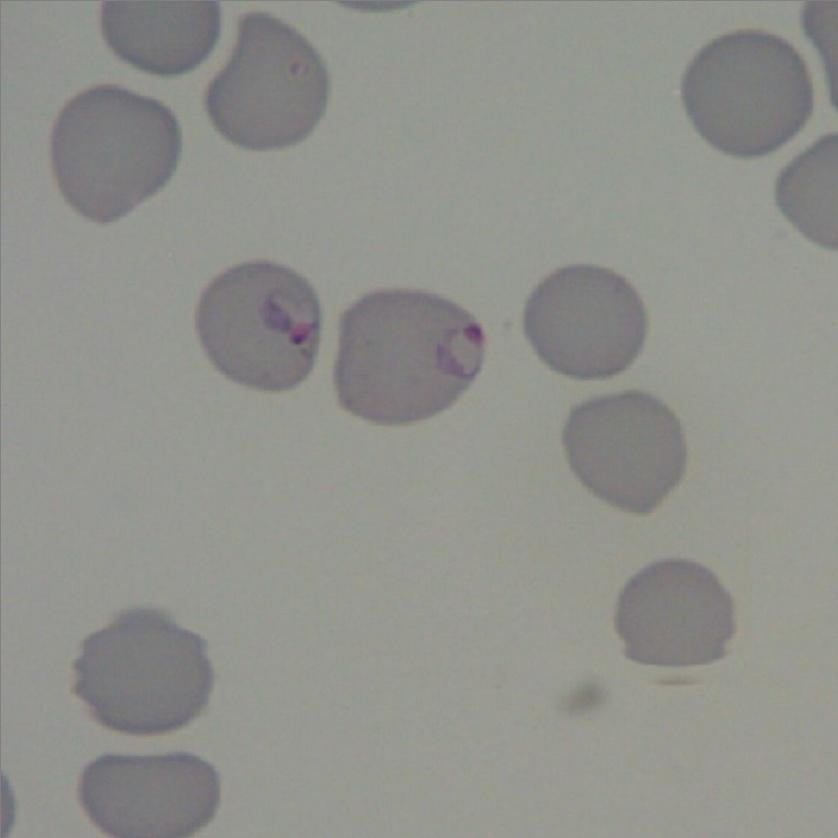Infected: (350, 409, 503, 549), (518, 447, 641, 574)
Uninfected: (654, 617, 787, 752), (626, 103, 762, 226), (30, 673, 151, 807), (512, 687, 625, 823), (190, 463, 317, 580), (152, 329, 274, 445), (100, 173, 226, 285), (618, 1, 755, 86)
